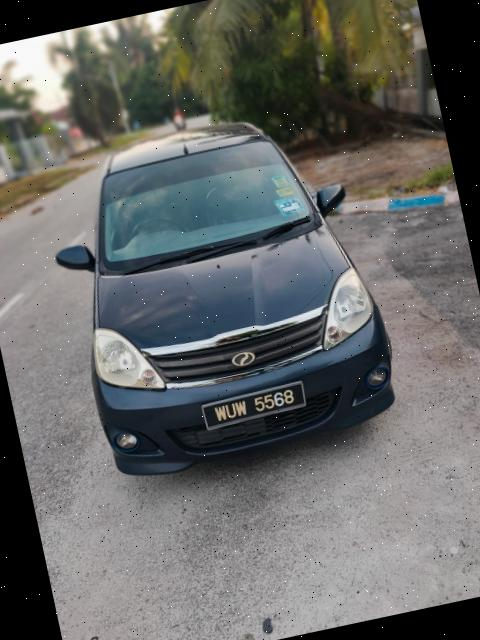License_Plate: (201, 384, 309, 429)
car: (21, 84, 414, 490)
